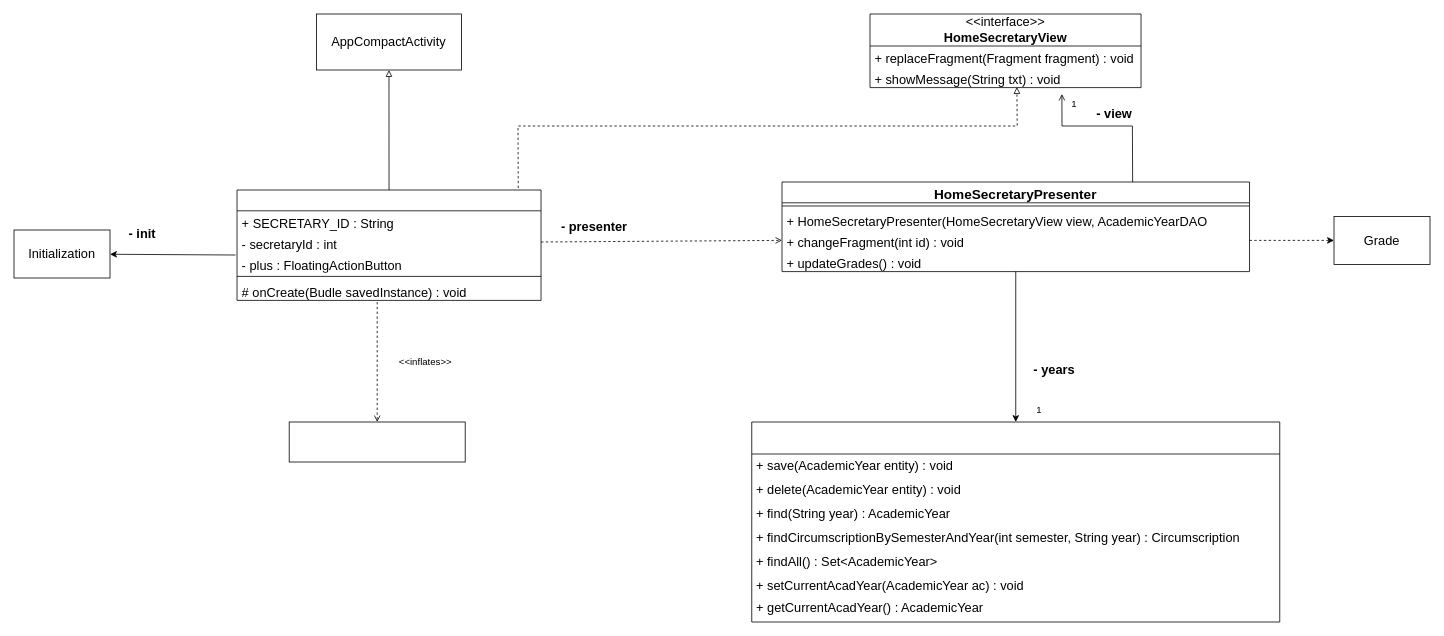
Image size: 1444x636. Some labels were removed from this diagram. Each missing label, with the box of its shape:
<<interface>> AcademicYearDAO: (751, 421, 1280, 622)
HomeSecretaryActivity: (236, 189, 541, 300)
«layout» secretary_home: (288, 421, 465, 462)
